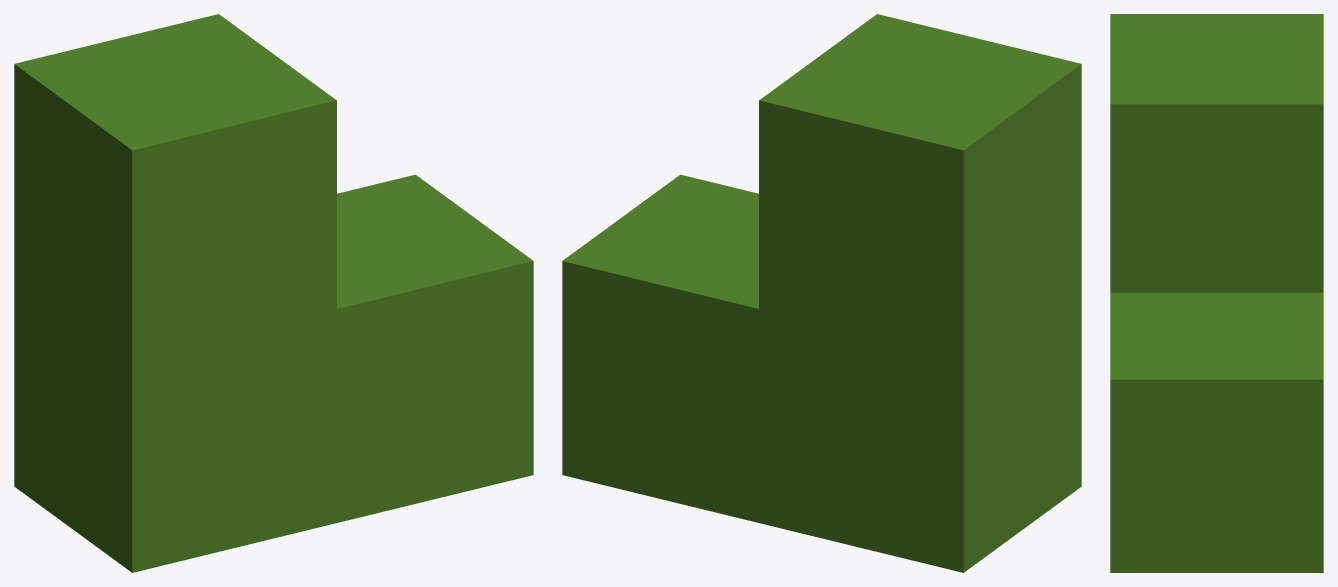
The model's file is grass-three.glb.
The picture shows the model from 3 angles, left to right: view 1: azimuth 30°, elevation 25°; view 2: azimuth 150°, elevation 25°; view 3: azimuth 270°, elevation 25°; orthographic projection. The views are drawn at different scales.
Parts seen in each view (by area): view 1: baked.001; view 2: baked.001; view 3: baked.001.
Boxes of the visible parts, x1,y1,x2,y2 form: baked.001: [14, 14, 533, 572]; baked.001: [562, 14, 1081, 572]; baked.001: [1110, 14, 1323, 572].
Bounding box in the file's own units: 0.2476 × 0.2491 × 0.1262.
